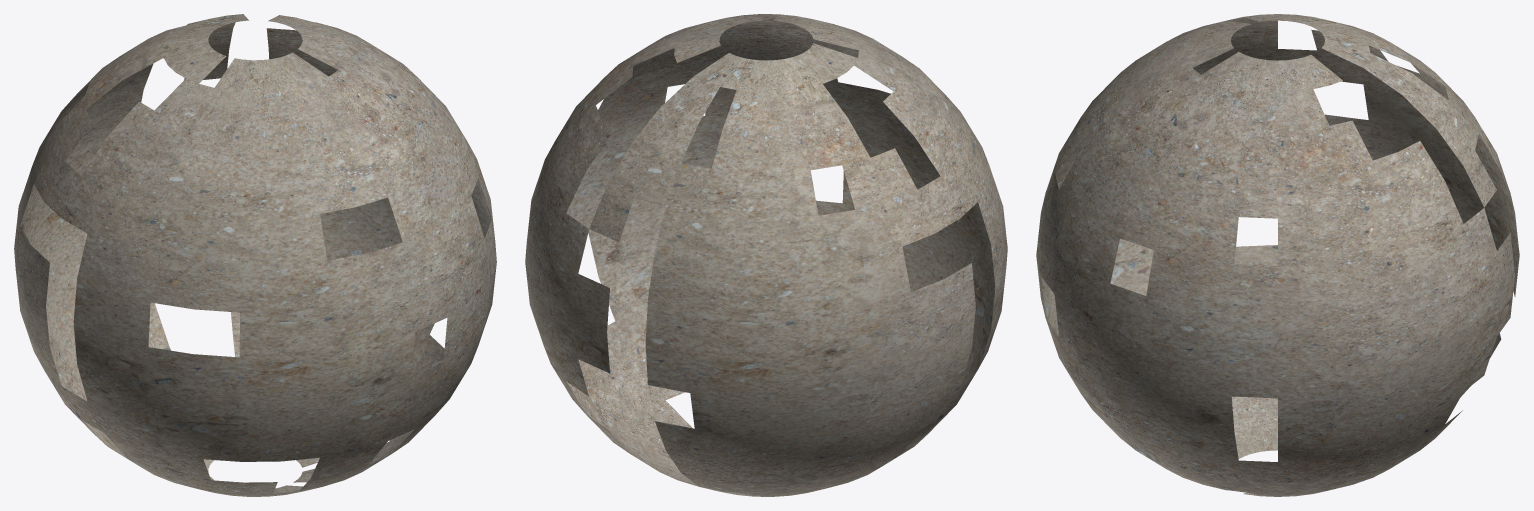
The model's file is sphere_trouee_big.fbx.
3 renders of one model, left to right at view 1: azimuth 30°, elevation 25°; view 2: azimuth 150°, elevation 25°; view 3: azimuth 270°, elevation 25°, orthographic.
Visible parts, largest first — view 1: Sphere; view 2: Sphere; view 3: Sphere.
Boxes of the visible parts, bbox=[...] form: Sphere: bbox=[14, 14, 496, 496]; Sphere: bbox=[525, 14, 1007, 496]; Sphere: bbox=[1036, 14, 1519, 496].
Size of the model in its own units: 101 by 99.49 by 101.
